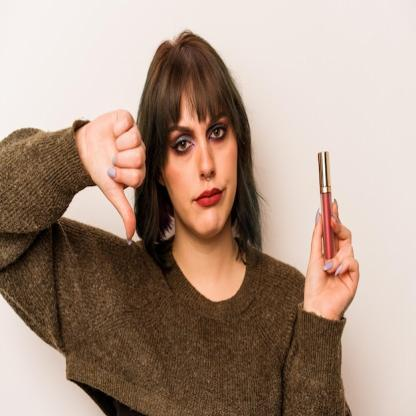thumb_down: (82, 105, 148, 245)
